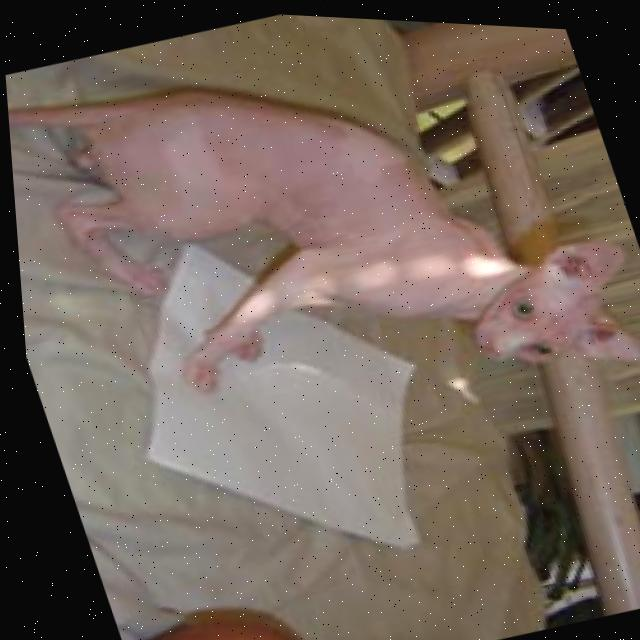Sphynx: (0, 0, 640, 518)
